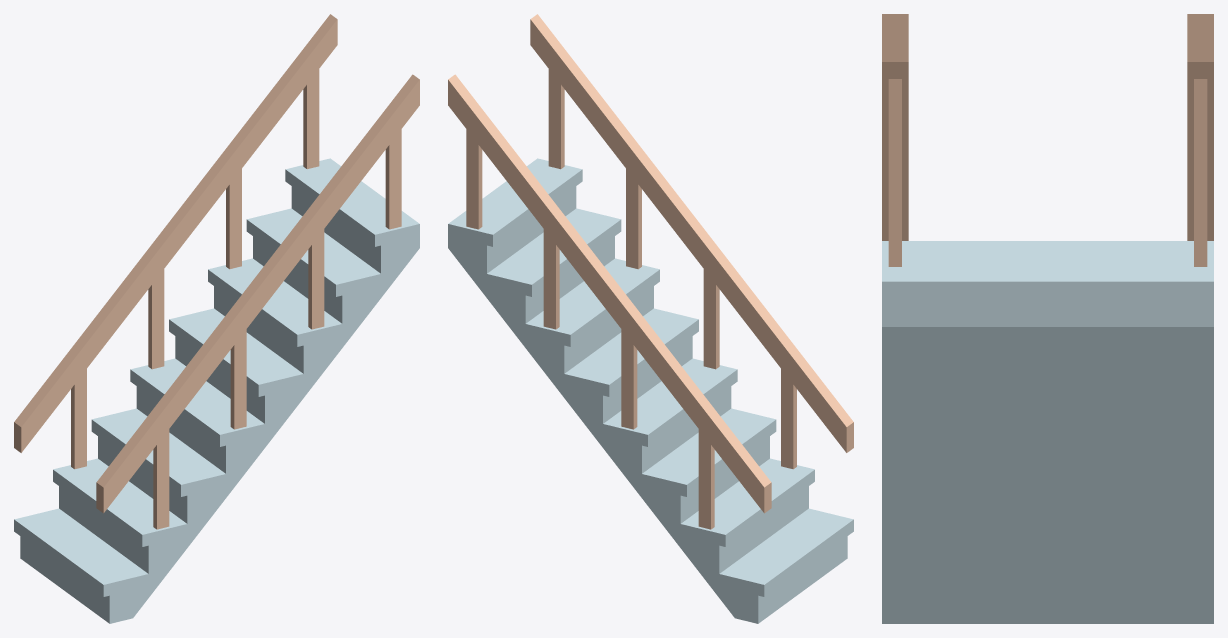
3 renders of one model, left to right at view 1: azimuth 30°, elevation 25°; view 2: azimuth 150°, elevation 25°; view 3: azimuth 270°, elevation 25°, orthographic. The views are drawn at different scales.
Parts seen in each view (by area): view 1: stairsStoneHandrail, rail; view 2: stairsStoneHandrail, rail; view 3: stairsStoneHandrail, rail.
Part boxes in pixels (<box>): stairsStoneHandrail: <box>14,158,419,623</box>; rail: <box>14,14,419,529</box>; stairsStoneHandrail: <box>448,158,853,623</box>; rail: <box>448,14,853,529</box>; stairsStoneHandrail: <box>882,241,1213,623</box>; rail: <box>882,14,1213,266</box>.
Size of the model in its own units: 1.02 by 1.44 by 0.5.
